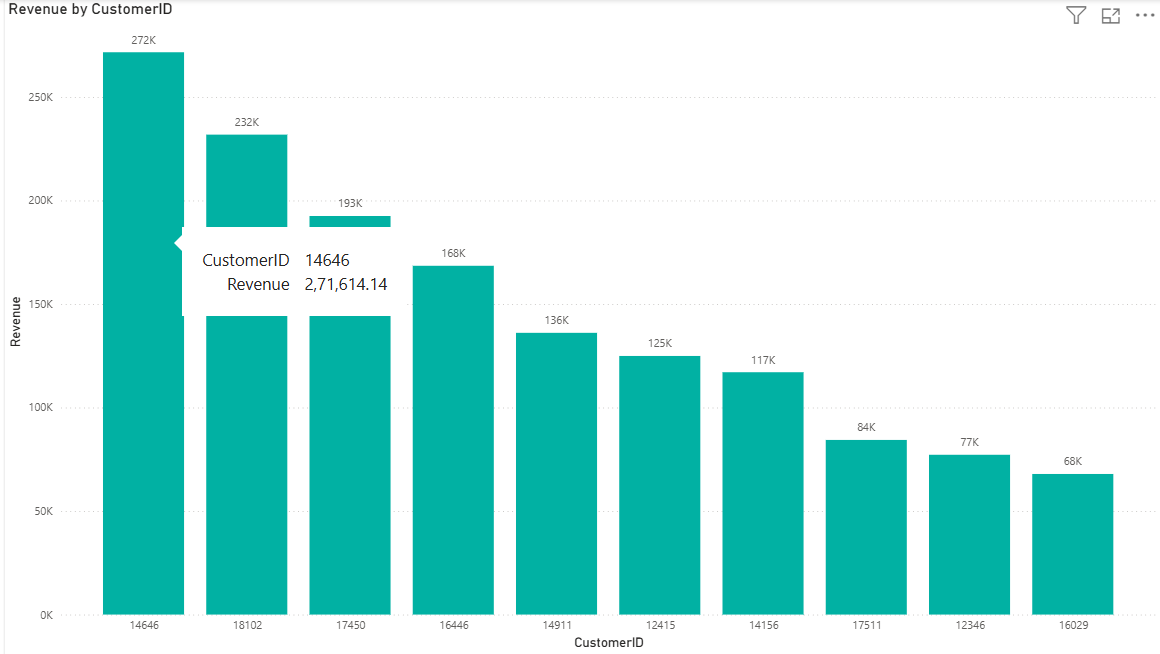

The page's visual inventory and layout, read from the dashboard file:
{"tool":"powerbi","page":{"name":"top 10 customers by revenue","canvas":[1280,720],"ordinal":2},"visuals":[{"type":"clusteredColumnChart","title":"top 10 customers by revenue","fields":{"Category":["Online Retail.CustomerID"],"Y":["CountNonNull(Online Retail.totalrevenue)"]},"box":[10,0,1270,720],"z":0}]}

Visuals, with their boxes in screenshot pixels (x1, y1, x2, y2), scaled from the page's 1280x720 canvas onto the 1160x654 screenshot:
"top 10 customers by revenue" clusteredColumnChart: (9, 0, 1159, 653)
